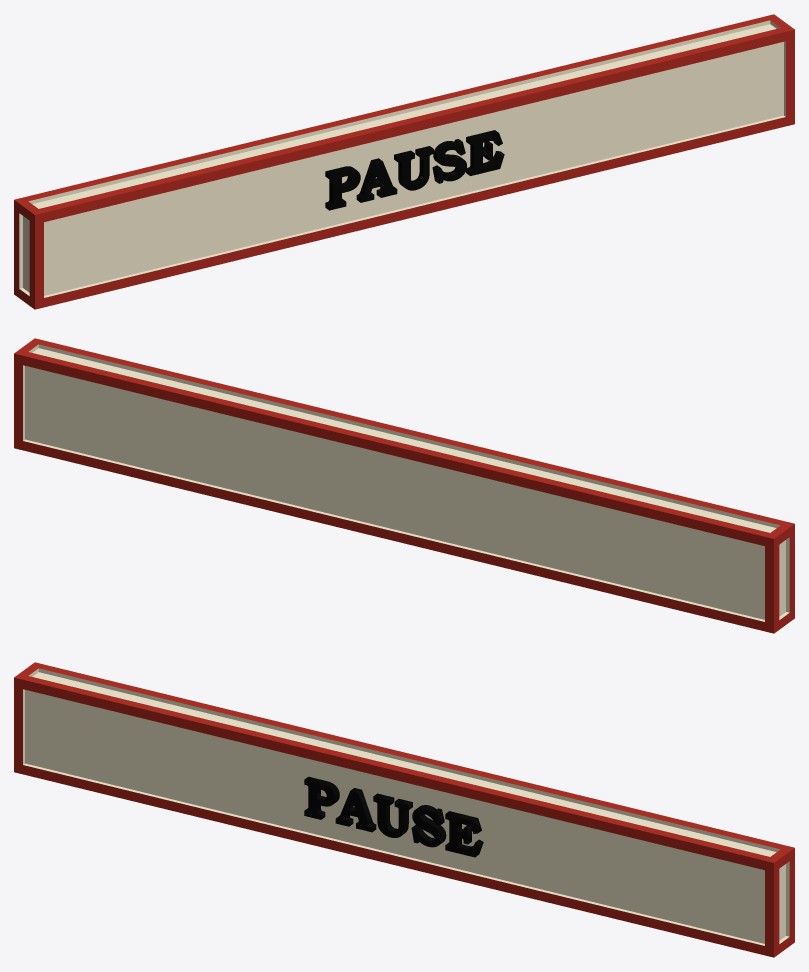
File: pause.glb
The picture shows the model from 3 angles, top to bottom: view 1: azimuth 30°, elevation 25°; view 2: azimuth 150°, elevation 25°; view 3: azimuth 330°, elevation 25°; orthographic projection.
Parts seen in each view (by area): view 1: Button.002, Text.002; view 2: Button.002; view 3: Button.002, Text.002.
Boxes of the visible parts, bbox=[...] form: Button.002: bbox=[14, 14, 794, 309]; Text.002: bbox=[325, 130, 504, 210]; Button.002: bbox=[14, 338, 794, 633]; Button.002: bbox=[14, 662, 794, 957]; Text.002: bbox=[304, 776, 483, 857].
Bounding box in the file's own units: 10.5 × 1.25 × 0.55.
